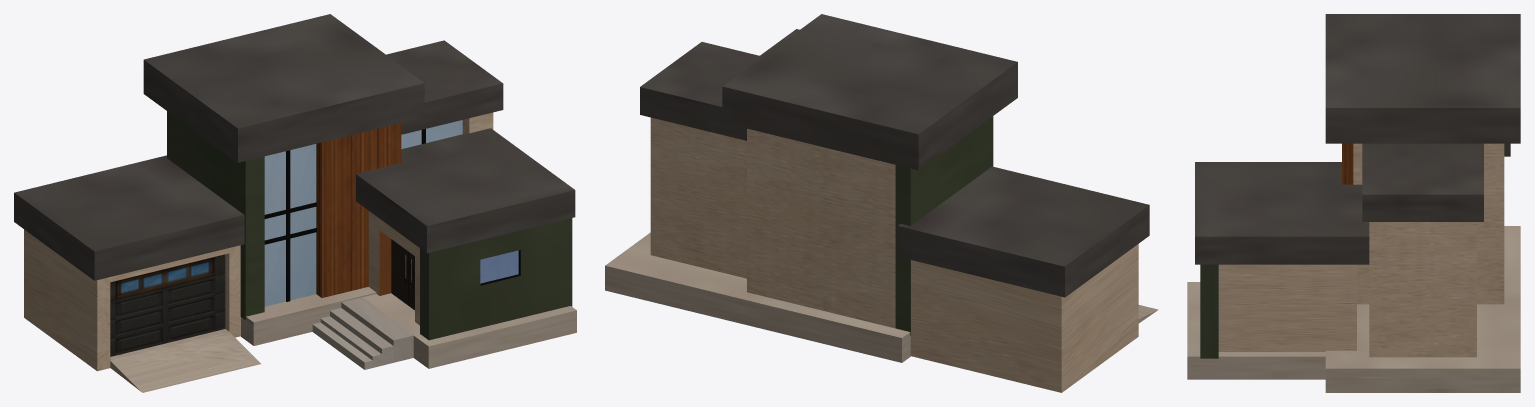
Rendered from villa 2.fbx.
3 renders of one model, left to right at view 1: azimuth 30°, elevation 25°; view 2: azimuth 150°, elevation 25°; view 3: azimuth 270°, elevation 25°, orthographic. The views are drawn at different scales.
Visible parts, largest first — view 1: Cube.005; view 2: Cube.005; view 3: Cube.005.
Part boxes in pixels (x1=…): Cube.005: x1=14, y1=14, x2=576, y2=392; Cube.005: x1=605, y1=14, x2=1158, y2=392; Cube.005: x1=1187, y1=14, x2=1520, y2=392.
Size of the model in its own units: 785 by 385 by 507.
